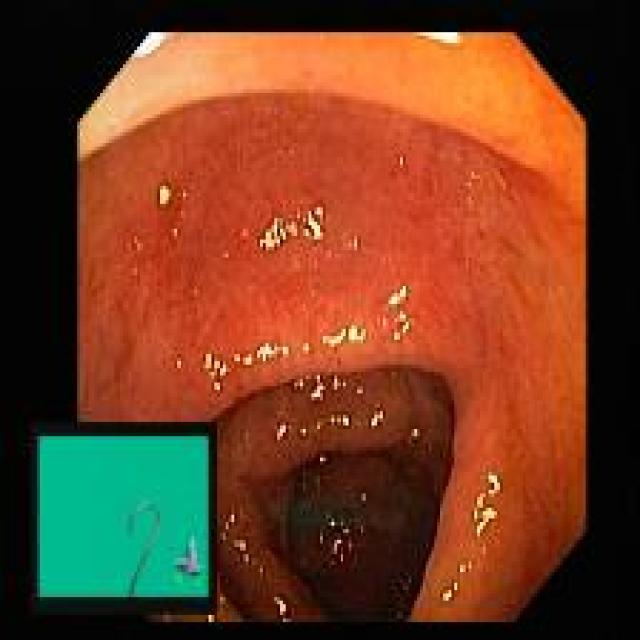ulcerative-colitis: (81, 94, 584, 613)
